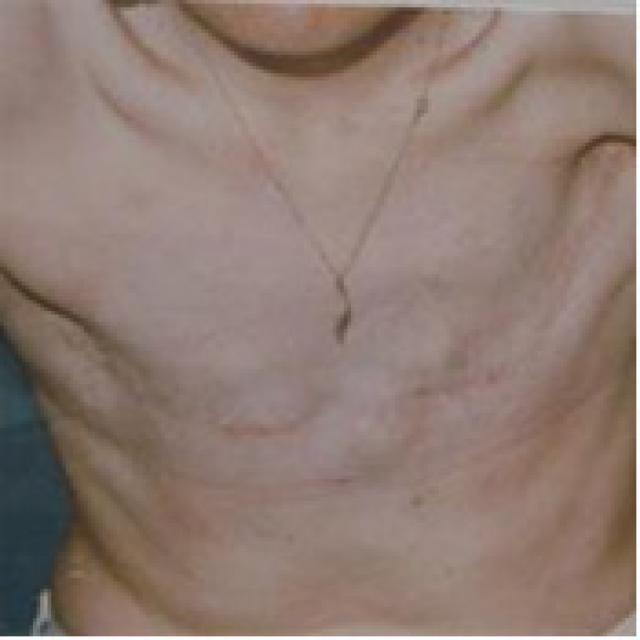Seno herido: (41, 209, 324, 459), (340, 210, 624, 459)
